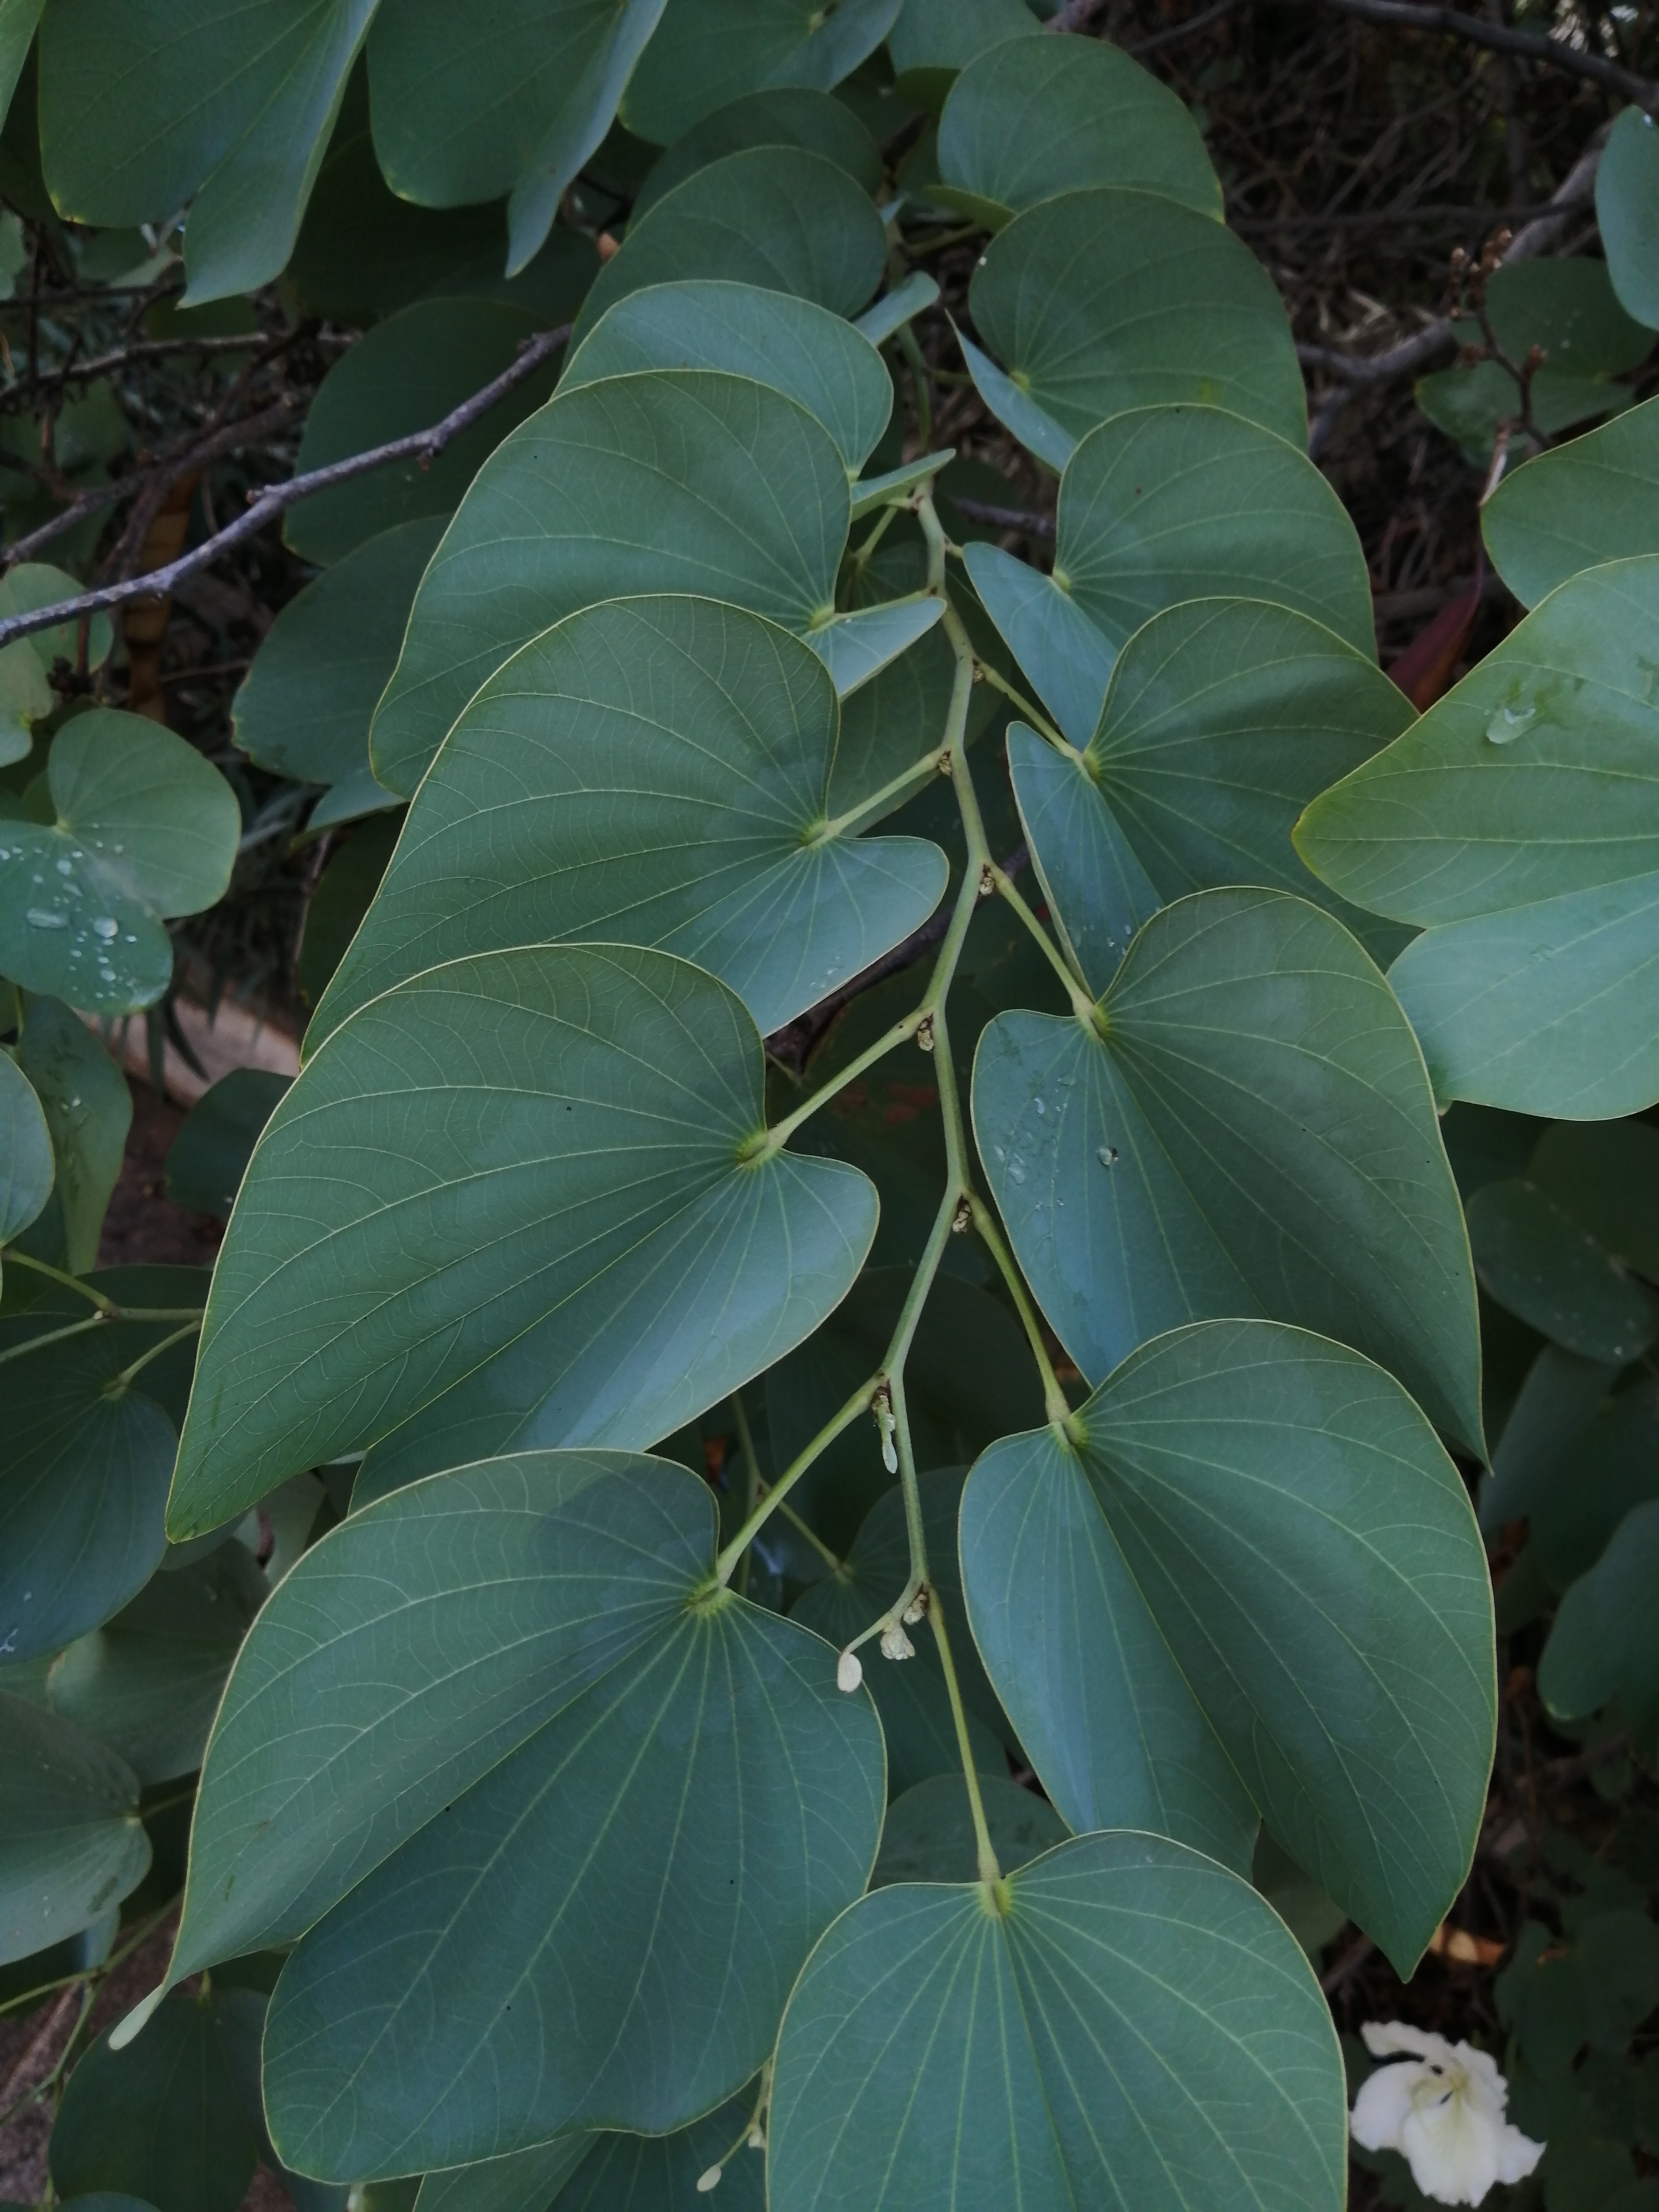healthy: (138, 1470, 857, 2179), (138, 930, 885, 1585), (897, 1324, 1579, 1932), (931, 857, 1452, 1498), (300, 613, 870, 1118), (687, 1806, 1392, 2212), (1230, 650, 1659, 1137), (366, 352, 852, 775), (990, 401, 1424, 737), (1000, 641, 1422, 970), (983, 145, 1356, 477), (566, 146, 1002, 380)
